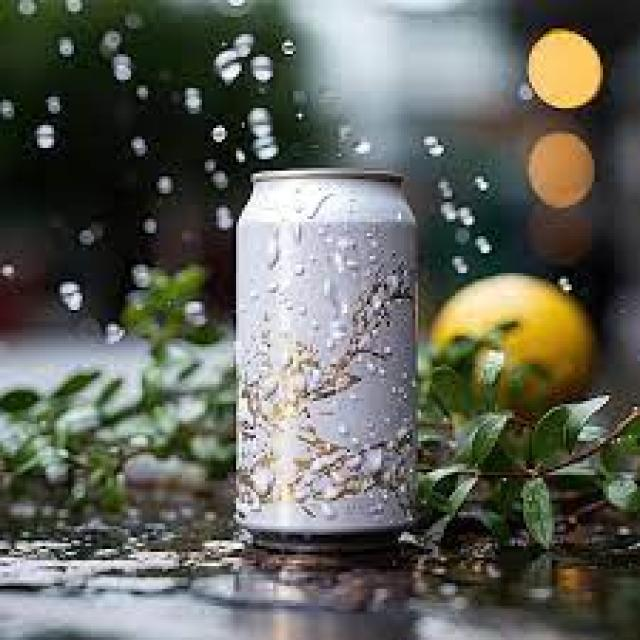Cans: (228, 162, 421, 555)
